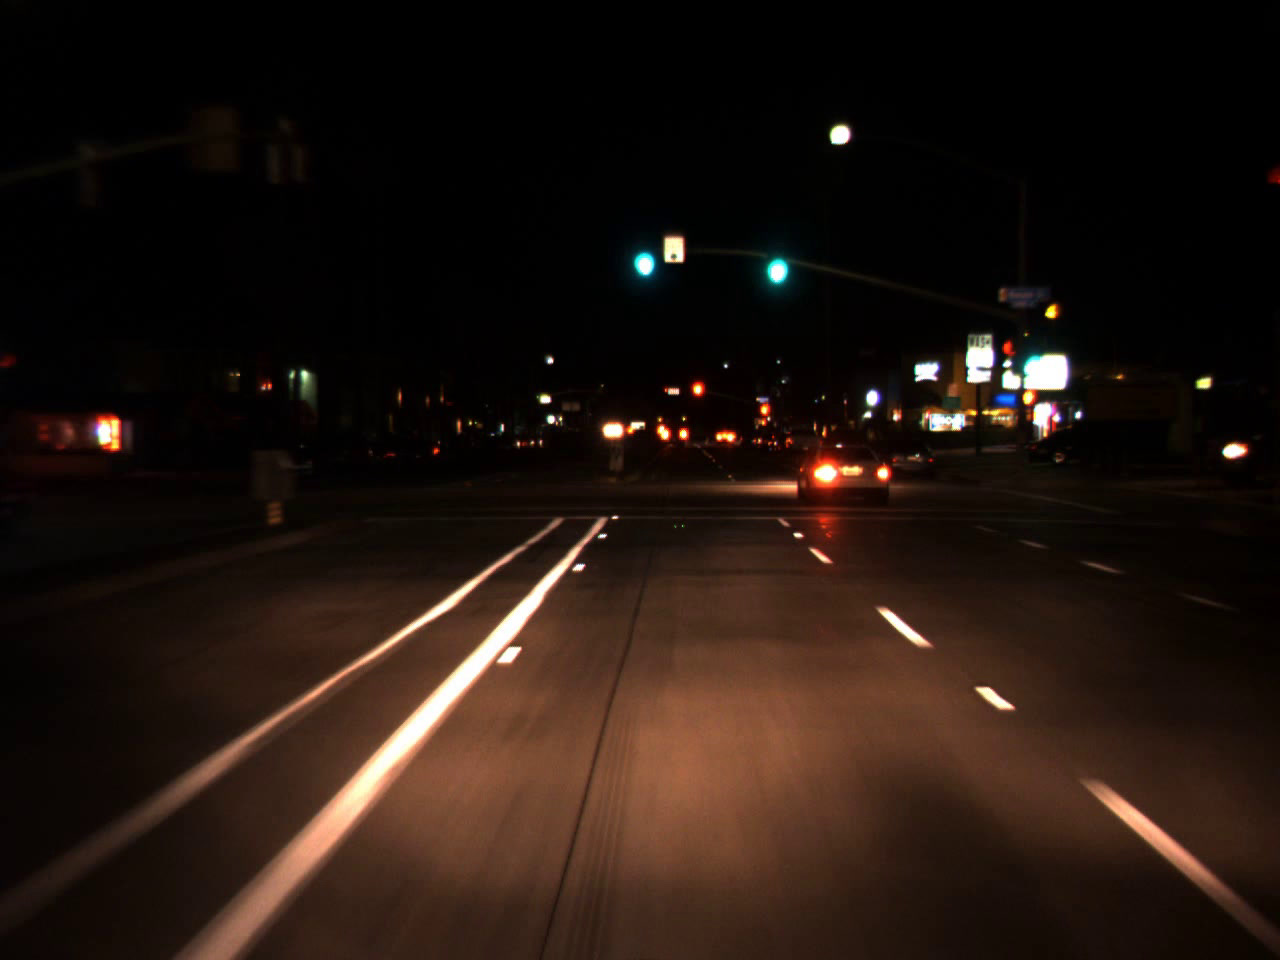go: (758, 225, 792, 294), (625, 221, 659, 284), (1016, 334, 1046, 382)
stop: (690, 378, 706, 415), (758, 401, 771, 433)
